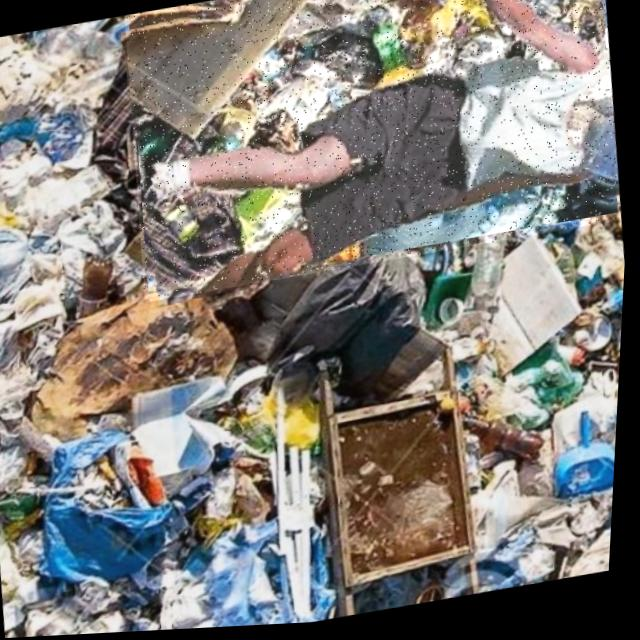Person in Rubble: (111, 0, 634, 305)
